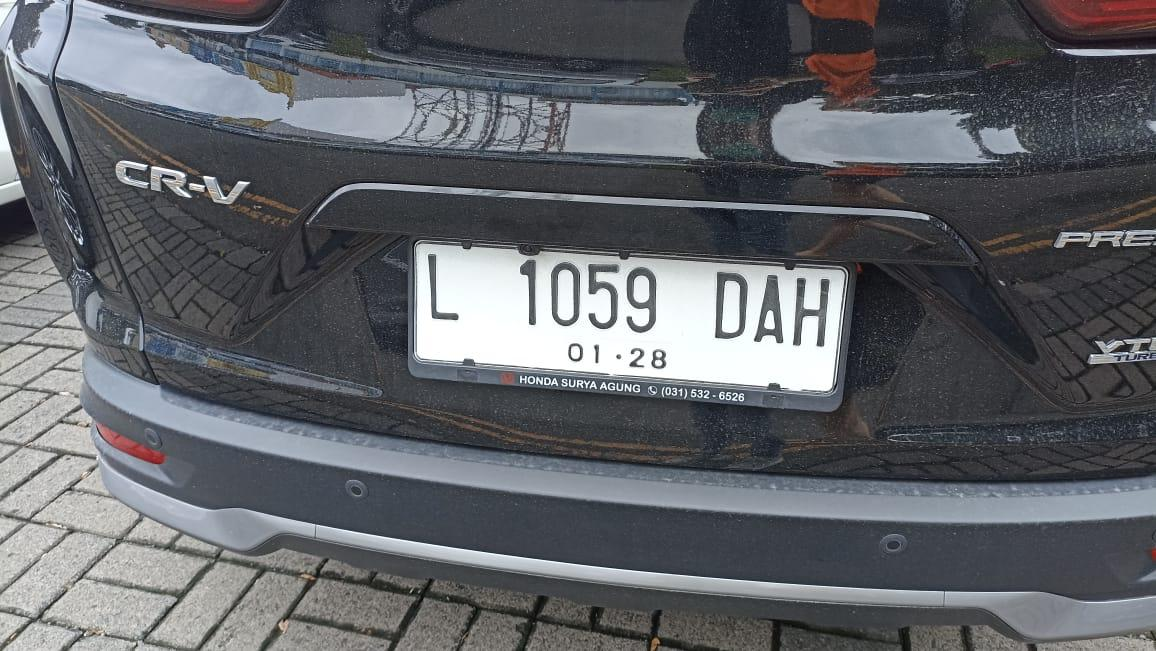plat: (409, 239, 853, 411)
